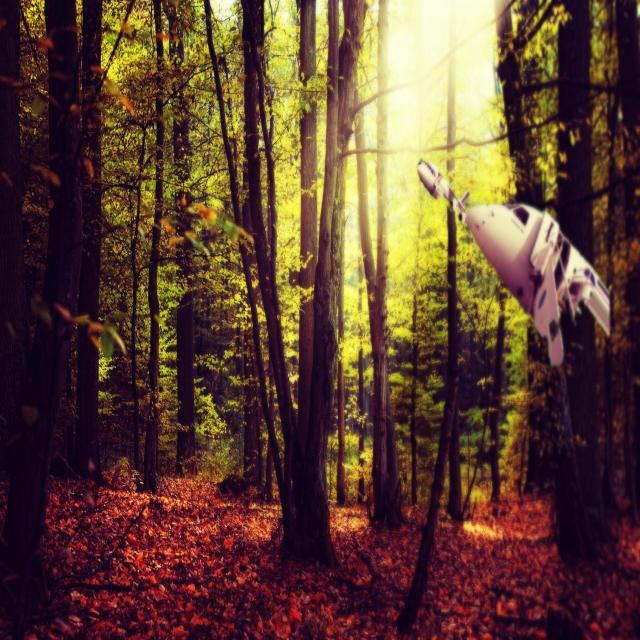airplane: (416, 157, 611, 367)
